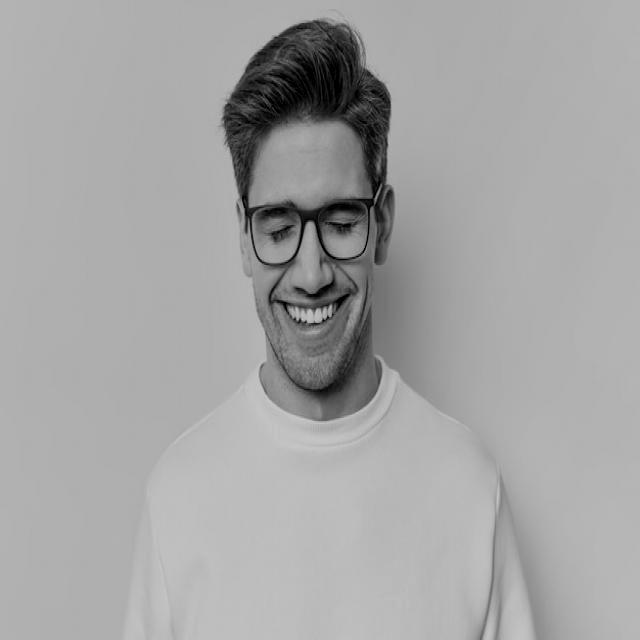real: (233, 116, 398, 390), (245, 202, 379, 264)
